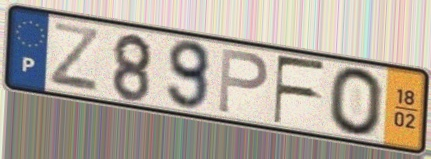8: (109, 30, 154, 103)
9: (163, 37, 212, 113)
F: (271, 53, 329, 127)
O: (327, 65, 386, 139)
P: (215, 46, 271, 117)
Z: (47, 20, 102, 95)
